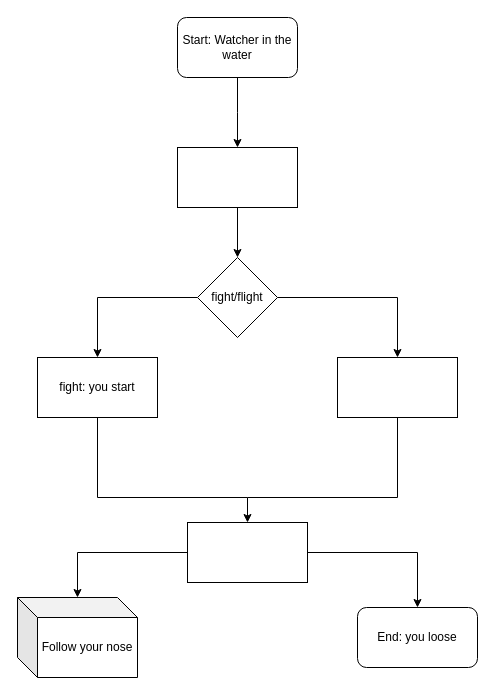
Some shapes in this 495 by 695 pixel diagram are drawn without their labels. The centre of each missing label's shape, as x and y in pixels:
"Fight Watcher" goes at (x=237, y=177).
"flight: watcher starts" goes at (x=397, y=387).
"Random numbers: first to reach 0 looses" goes at (x=247, y=552).
